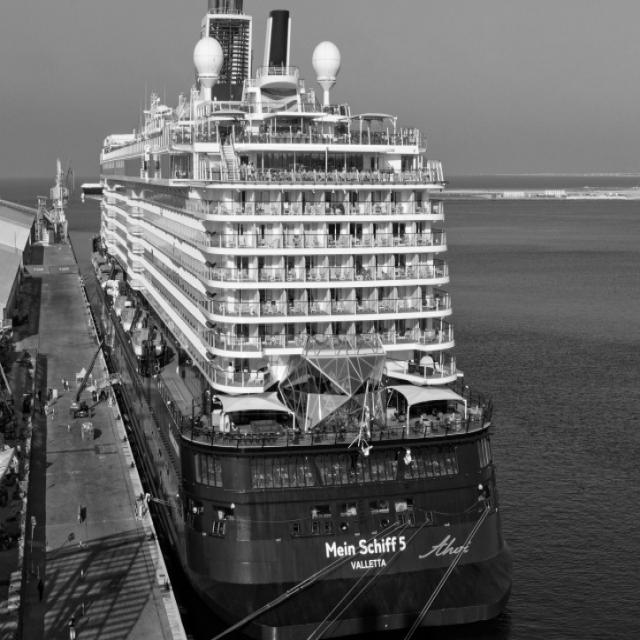cruises: (89, 1, 519, 640)
